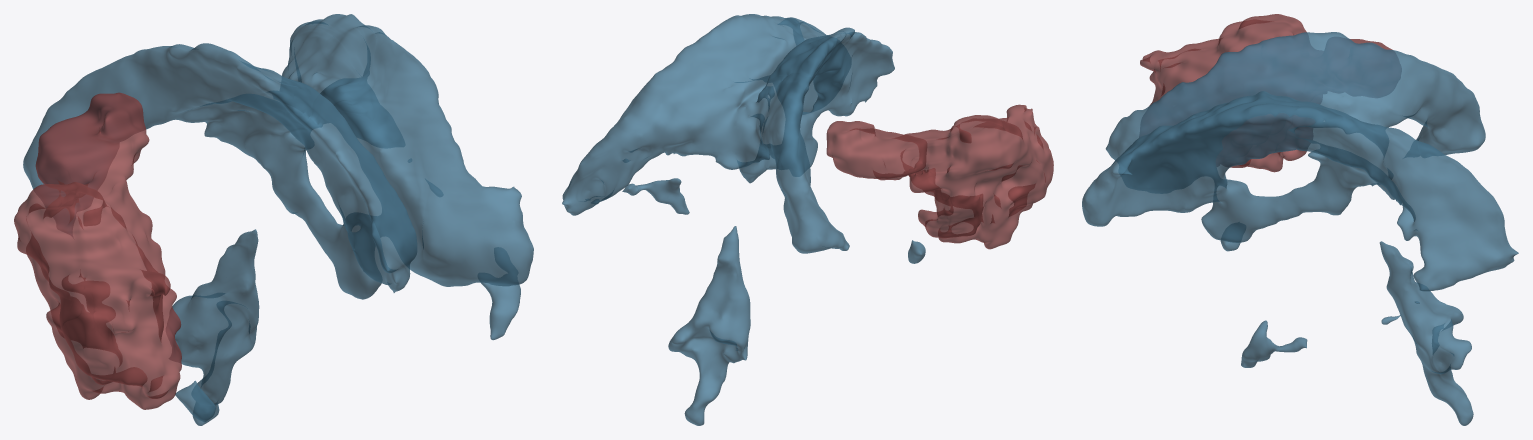
Rendered from figure_1_4.glb.
3 views of the same model, side by side, from view 1: azimuth 30°, elevation 25°; view 2: azimuth 150°, elevation 25°; view 3: azimuth 270°, elevation 25° (orthographic). The views are drawn at different scales.
Parts seen in each view (by area): view 1: ventricles, hard_bleed; view 2: ventricles, hard_bleed; view 3: ventricles, hard_bleed.
Part boxes in pixels (x1,y1,x2,y2): ventricles: (23,14,533,425); hard_bleed: (14,92,181,409); ventricles: (562,14,925,425); hard_bleed: (826,104,1053,249); ventricles: (1082,32,1518,425); hard_bleed: (1140,14,1392,172).
Size of the model in its own units: 90.54 by 78.69 by 85.46.
